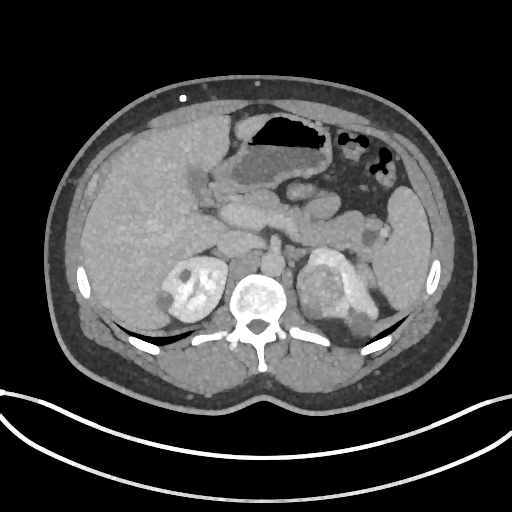Lesion: (294, 263, 349, 325), (154, 286, 175, 317)
